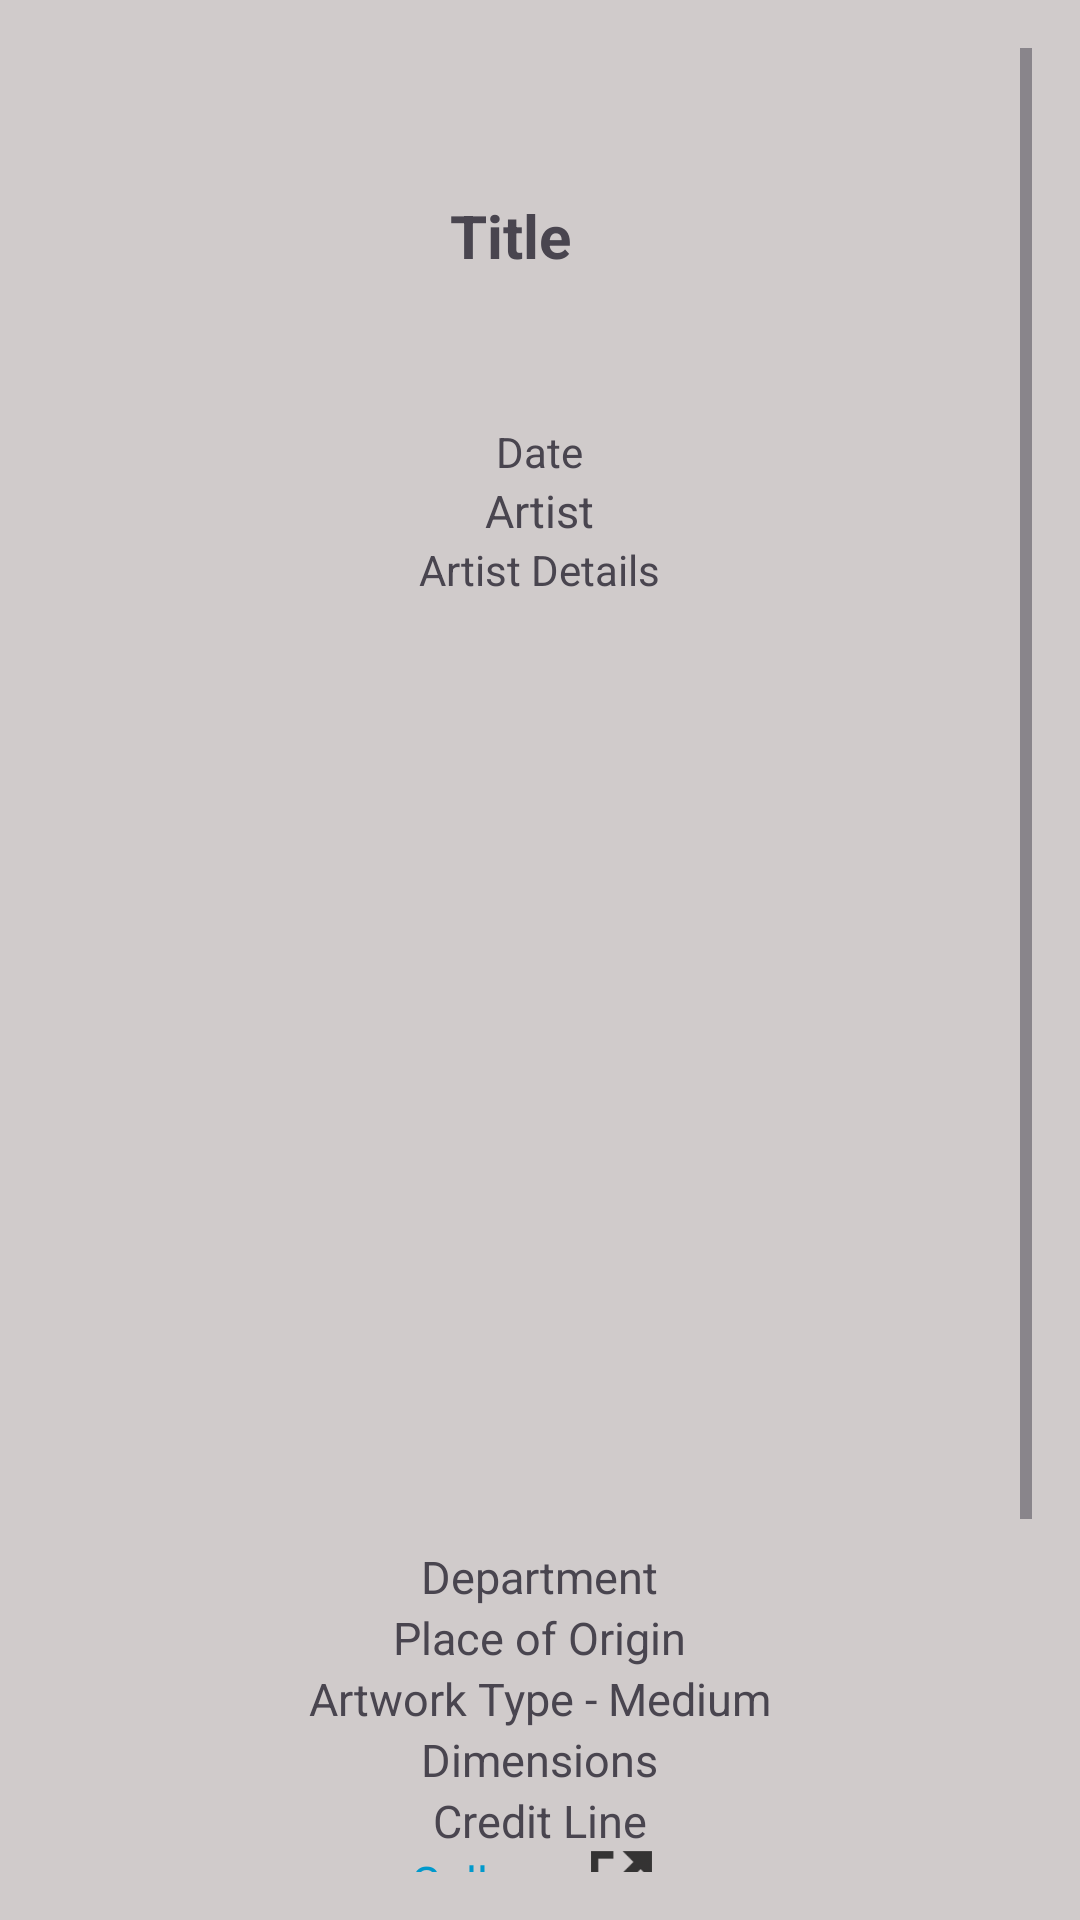

Icons on this 1080 x 1920 Android screen, each with its box as (x1, y1, x2, y2):
External Link: (591, 1851, 652, 1872)
